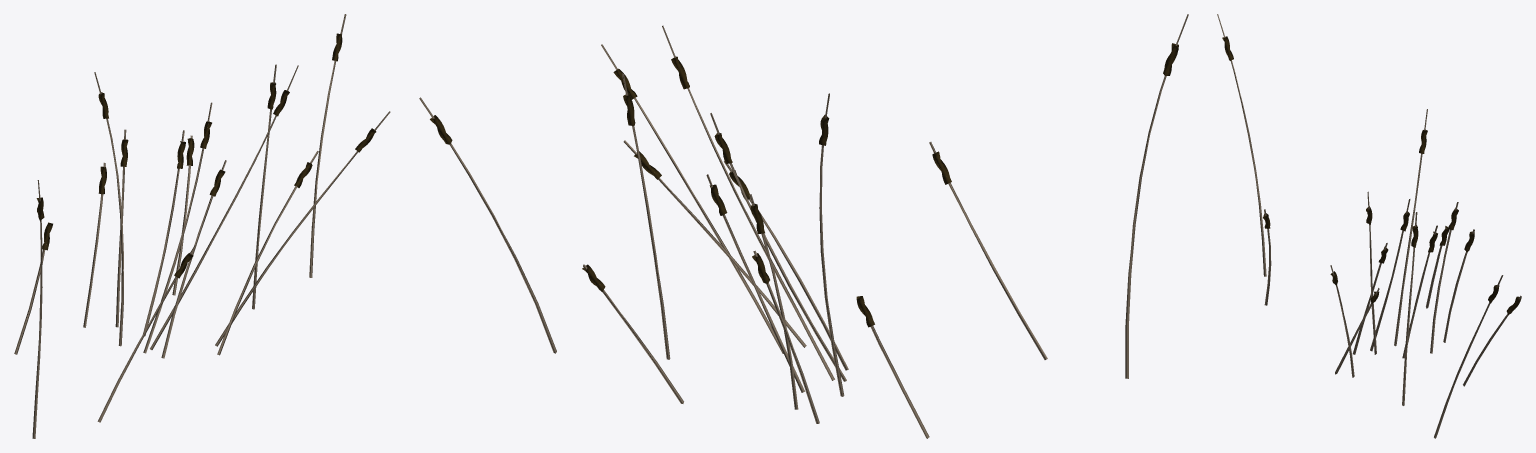
File: cattail4.fbx
3 renders of one model, left to right at view 1: azimuth 30°, elevation 25°; view 2: azimuth 150°, elevation 25°; view 3: azimuth 270°, elevation 25°, orthographic. The views are drawn at different scales.
Visible parts, largest first — view 1: cattail4Main, cattail4Flower; view 2: cattail4Main, cattail4Flower; view 3: cattail4Main, cattail4Flower.
Part boxes in pixels (x1,y1,x2,y2): cattail4Main: [14, 14, 390, 438]; cattail4Flower: [36, 33, 376, 278]; cattail4Main: [419, 14, 1188, 438]; cattail4Flower: [430, 43, 1178, 327]; cattail4Main: [1217, 14, 1521, 438]; cattail4Flower: [1222, 36, 1521, 314].
Bounding box in the file's own units: 7.4 × 4.29 × 4.68.
